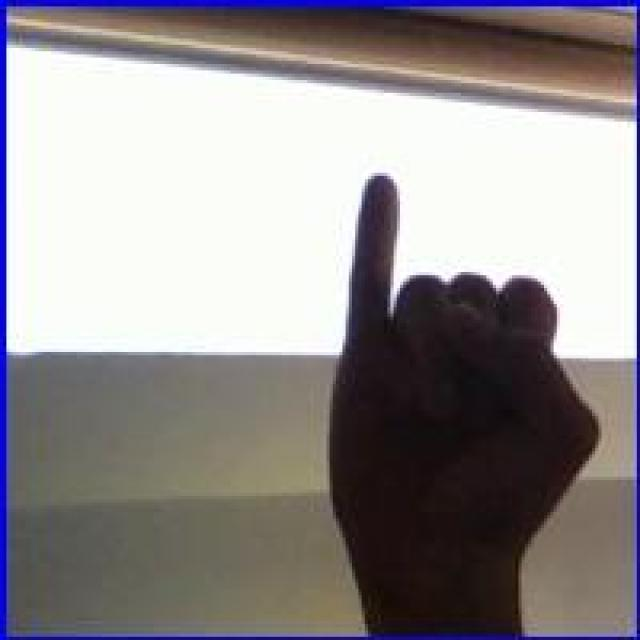I: (323, 158, 611, 632)
